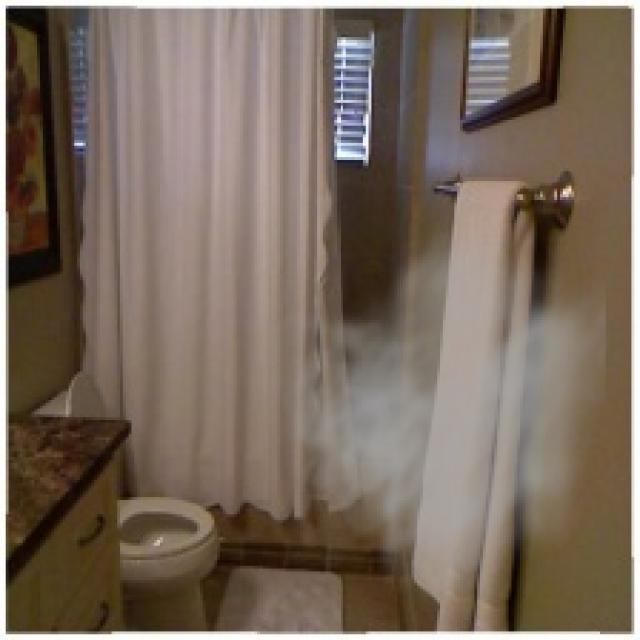Smoke: (251, 212, 606, 617)
